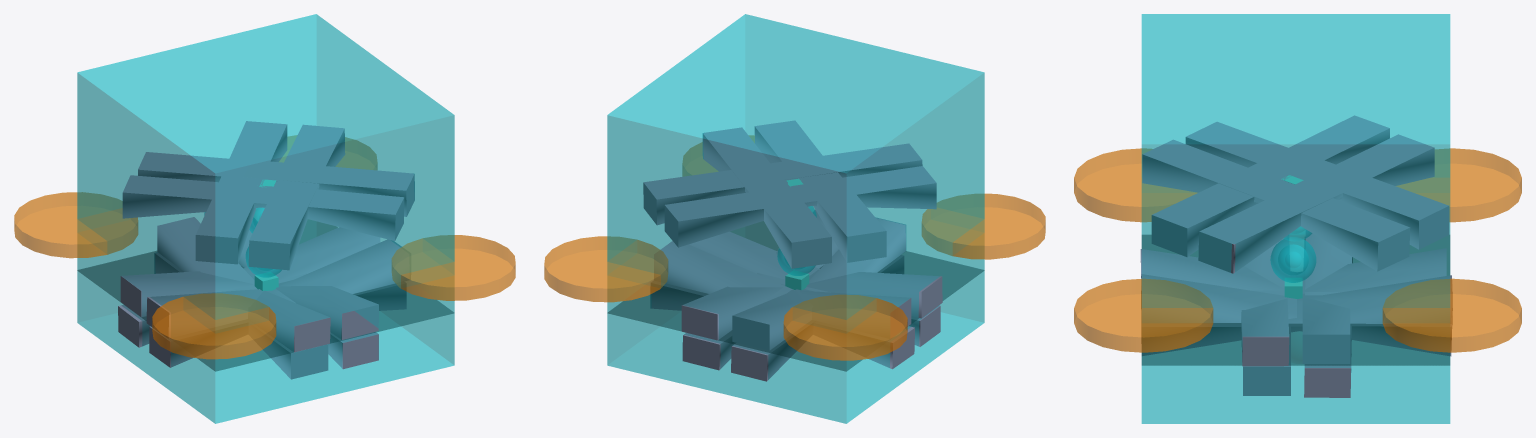
Rendered from stage_Alpha.fbx.
3 renders of one model, left to right at view 1: azimuth 30°, elevation 25°; view 2: azimuth 150°, elevation 25°; view 3: azimuth 270°, elevation 25°, orthographic. The views are drawn at different scales.
Parts seen in each view (by area): view 1: frame, pasted__pCylinder1, pCylinder1, pasted__pasted__pCylinder1, floor, stage010:pasted__pasted__pCube3, stage07:pasted__pCube3, stage07:pasted__pasted__pCube3, stage01:pasted__pCube1, stage06:pasted__pasted__pCube3, stage010:pasted__pCube1, stage07:pCube3 (+15 smaller); view 2: frame, pasted__pasted__pCylinder1, pasted__pasted__pasted__pCylinder1, pasted__pCylinder1, floor, stage010:pasted__pCube3, stage07:pasted__pCube3, stage01:pCube3, stage06:pasted__pCube3, stage07:pasted__pasted__pCube3, stage010:pCube3, stage07:pCube3 (+15 smaller); view 3: frame, pasted__pasted__pasted__pCylinder1, pCylinder1, floor, stage07:pasted__pasted__pCube3, pasted__pasted__pCylinder1, pasted__pCylinder1, stage010:pasted__pCube3, stage06:pasted__pCube1, stage010:pasted__pasted__pCube3, stage01:pasted__pCube3, stage07:pasted__pCube1 (+16 smaller).
Part boxes in pixels (x1,y1,x2,y2): frame: (77,14,454,423); pasted__pCylinder1: (152,293,276,359); pCylinder1: (392,235,515,300); pasted__pasted__pCylinder1: (14,192,137,258); floor: (77,219,453,371); stage010:pasted__pasted__pCube3: (248,180,319,270); stage07:pasted__pCube3: (122,175,274,218); stage07:pasted__pasted__pCube3: (243,160,414,216); stage01:pasted__pCube1: (146,289,280,338); stage06:pasted__pasted__pCube3: (272,239,409,302); stage010:pasted__pCube1: (262,189,404,240); stage07:pCube3: (195,179,264,264); frame: (607,14,984,423); pasted__pasted__pCylinder1: (783,295,907,360); pasted__pasted__pasted__pCylinder1: (544,236,667,302); pasted__pCylinder1: (922,193,1045,259); floor: (608,221,984,371); stage010:pasted__pCube3: (664,182,830,247); stage07:pasted__pCube3: (798,172,886,262); stage01:pCube3: (654,241,793,302); stage06:pasted__pCube3: (788,290,911,338); stage07:pasted__pasted__pCube3: (703,127,794,199); stage010:pCube3: (759,180,831,268); stage07:pCube3: (812,166,936,209); frame: (1141,14,1450,423); pasted__pasted__pasted__pCylinder1: (1382,278,1521,352); pCylinder1: (1074,279,1213,352); floor: (1142,235,1449,365); stage07:pasted__pasted__pCube3: (1198,173,1356,273); pasted__pasted__pCylinder1: (1396,148,1521,222); pasted__pCylinder1: (1074,148,1196,222); stage010:pasted__pCube3: (1278,154,1449,249); stage06:pasted__pCube1: (1141,274,1296,322); stage010:pasted__pasted__pCube3: (1142,139,1294,202); stage01:pasted__pCube3: (1288,275,1451,323); stage07:pasted__pCube1: (1283,180,1409,271).
Bounding box in the file's own units: 1452 × 1017 × 1452.
